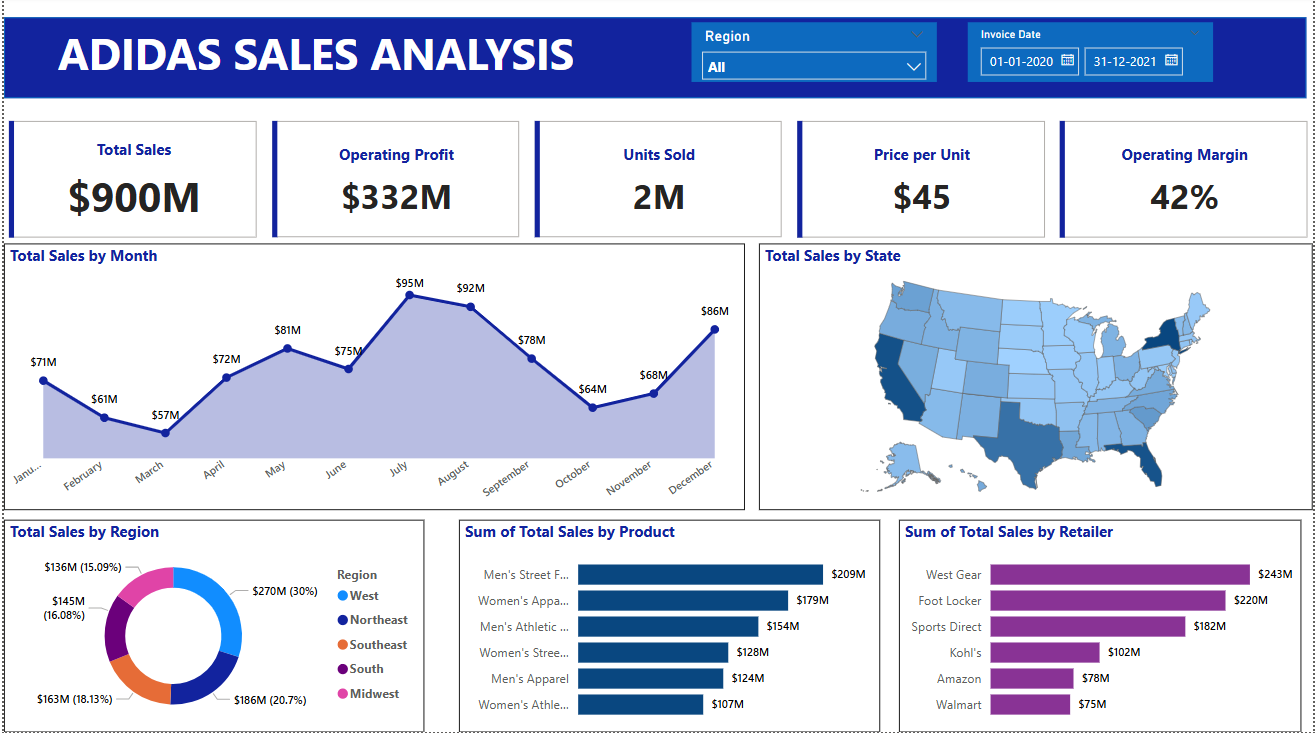

What the dashboard file says about the page in this screenshot:
{"tool":"powerbi","page":{"name":"Page 1","canvas":[1280,720],"ordinal":0},"visuals":[{"type":"shape","box":[0,20.6,1280.3,79.6],"z":0},{"type":"textbox","box":[47.7,20.8,1232.6,69.7],"z":1000},{"type":"cardVisual","fields":{"Data":["Sum(Data Sales Adidas.Total Sales)","Sum(Data Sales Adidas.Operating Profit)","Sum(Data Sales Adidas.Units Sold)","Avg(Data Sales Adidas.Price per Unit)","Avg(Data Sales Adidas.Operating Margin)"]},"box":[0,117.4,1280.3,124.7],"z":2000},{"type":"areaChart","title":"Total Sales by Month","fields":{"Category":["Data Sales Adidas.Invoice Date.Variation.Date Hierarchy.Month"],"Y":["Sum(Data Sales Adidas.Total Sales)"]},"box":[0,242.1,725.1,260.5],"z":3000},{"type":"shapeMap","title":" Total Sales by State","fields":{"Category":["Data Sales Adidas.State"],"Value":["Sum(Data Sales Adidas.Total Sales)"]},"box":[738.6,242.1,541.7,260.5],"z":4000},{"type":"donutChart","title":" Total Sales by Region","fields":{"Category":["Data Sales Adidas.Region"],"Y":["Sum(Data Sales Adidas.Total Sales)"]},"box":[0,512.4,410.9,207.9],"z":5000},{"type":"barChart","fields":{"Category":["Data Sales Adidas.Product"],"Y":["Sum(Data Sales Adidas.Total Sales)"]},"box":[445.1,512.4,412.1,207.9],"z":6000},{"type":"barChart","fields":{"Y":["Sum(Data Sales Adidas.Total Sales)"],"Category":["Data Sales Adidas.Retailer"]},"box":[875.5,512.4,393.8,207.9],"z":7000},{"type":"slicer","fields":{"Values":["Data Sales Adidas.Region"]},"box":[672.6,25.7,239.7,58.7],"z":7001},{"type":"slicer","fields":{"Values":["Data Sales Adidas.Invoice Date"]},"box":[942.8,25.7,239.7,58.7],"z":7002}]}

Visuals, with their boxes in screenshot pixels (x1, y1, x2, y2), scaled from the page's 1280x720 canvas onto the 1316x733 screenshot:
shape: region(0, 21, 1315, 102)
textbox: region(49, 21, 1315, 92)
cardVisual - Sum(Data Sales Adidas.Total Sales) x Sum(Data Sales Adidas.Operating Profit): region(0, 120, 1315, 246)
"Total Sales by Month" areaChart: region(0, 246, 745, 512)
" Total Sales by State" shapeMap: region(759, 246, 1315, 512)
" Total Sales by Region" donutChart: region(0, 522, 422, 732)
barChart - Data Sales Adidas.Product x Sum(Data Sales Adidas.Total Sales): region(458, 522, 881, 732)
barChart - Sum(Data Sales Adidas.Total Sales) x Data Sales Adidas.Retailer: region(900, 522, 1305, 732)
slicer - Data Sales Adidas.Region: region(692, 26, 938, 86)
slicer - Data Sales Adidas.Invoice Date: region(969, 26, 1216, 86)
